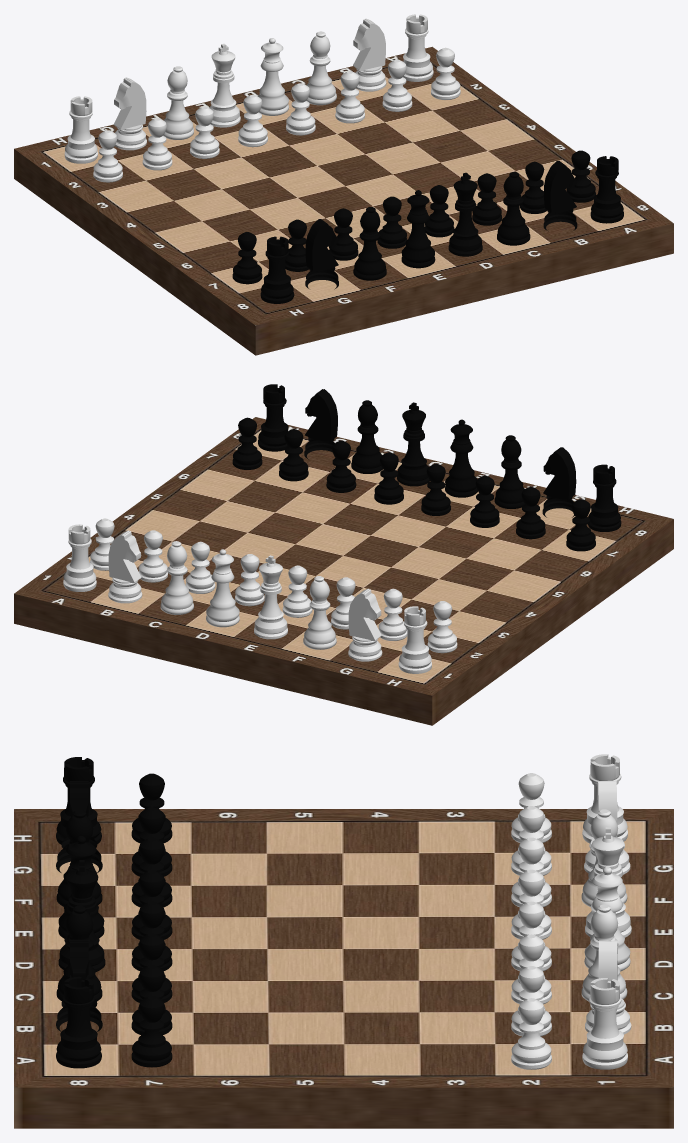
File: chess.glb
The picture shows the model from 3 angles, top to bottom: view 1: azimuth 30°, elevation 25°; view 2: azimuth 150°, elevation 25°; view 3: azimuth 270°, elevation 25°; orthographic projection. The views are drawn at different scales.
Parts seen in each view (by area): view 1: table, At-Beyaz, At-Beyaz.001, object 5, object 11, object 22, King-Beyaz, object 8, Kale-Beyaz, object 4, object 14, Vezir-Beyaz (+21 smaller); view 2: table, At-Beyaz, At-Beyaz.001, King-Beyaz, object 5, Vezir-Beyaz, object 11, object 8, object 22, Kale-Beyaz.001, Kale-Beyaz, object 4 (+21 smaller); view 3: table, object 14, Kale-Beyaz.001, object 19, Piyon-beyaz.005, object 5, Vezir-Beyaz, King-Beyaz, Kale-Beyaz, object 4, Fil-Beyaz.001, object 10 (+21 smaller).
Boxes of the visible parts, bbox=[...] form: table: bbox=[14, 46, 673, 355]; At-Beyaz: bbox=[113, 77, 146, 150]; At-Beyaz.001: bbox=[353, 18, 386, 91]; object 5: bbox=[448, 172, 482, 256]; object 11: bbox=[305, 219, 338, 289]; object 22: bbox=[543, 161, 577, 231]; King-Beyaz: bbox=[209, 43, 240, 127]; object 8: bbox=[401, 190, 435, 268]; Kale-Beyaz: bbox=[64, 96, 97, 163]; object 4: bbox=[260, 236, 294, 303]; object 14: bbox=[590, 156, 623, 223]; Vezir-Beyaz: bbox=[258, 38, 288, 115]; table: bbox=[14, 417, 673, 725]; At-Beyaz: bbox=[348, 588, 382, 661]; At-Beyaz.001: bbox=[108, 530, 142, 603]; King-Beyaz: bbox=[254, 555, 287, 639]; object 5: bbox=[397, 402, 429, 486]; Vezir-Beyaz: bbox=[206, 549, 239, 627]; object 11: bbox=[542, 447, 576, 517]; object 8: bbox=[445, 419, 477, 497]; object 22: bbox=[304, 389, 337, 459]; Kale-Beyaz.001: bbox=[63, 524, 96, 591]; Kale-Beyaz: bbox=[398, 606, 431, 673]; object 4: bbox=[588, 464, 621, 531]; table: bbox=[14, 809, 673, 1128]; object 14: bbox=[56, 976, 101, 1068]; Kale-Beyaz.001: bbox=[582, 978, 627, 1069]; object 19: bbox=[131, 996, 172, 1067]; Piyon-beyaz.005: bbox=[511, 998, 551, 1069]; object 5: bbox=[58, 860, 105, 971]; Vezir-Beyaz: bbox=[584, 867, 630, 971]; King-Beyaz: bbox=[585, 827, 631, 937]; Kale-Beyaz: bbox=[582, 754, 627, 843]; object 4: bbox=[56, 757, 101, 844]; Fil-Beyaz.001: bbox=[581, 904, 627, 1001]; object 10: bbox=[56, 905, 102, 1001].
Size of the model in its own units: 8.35 by 2.03 by 8.35.
24 materials, 1 textured.
